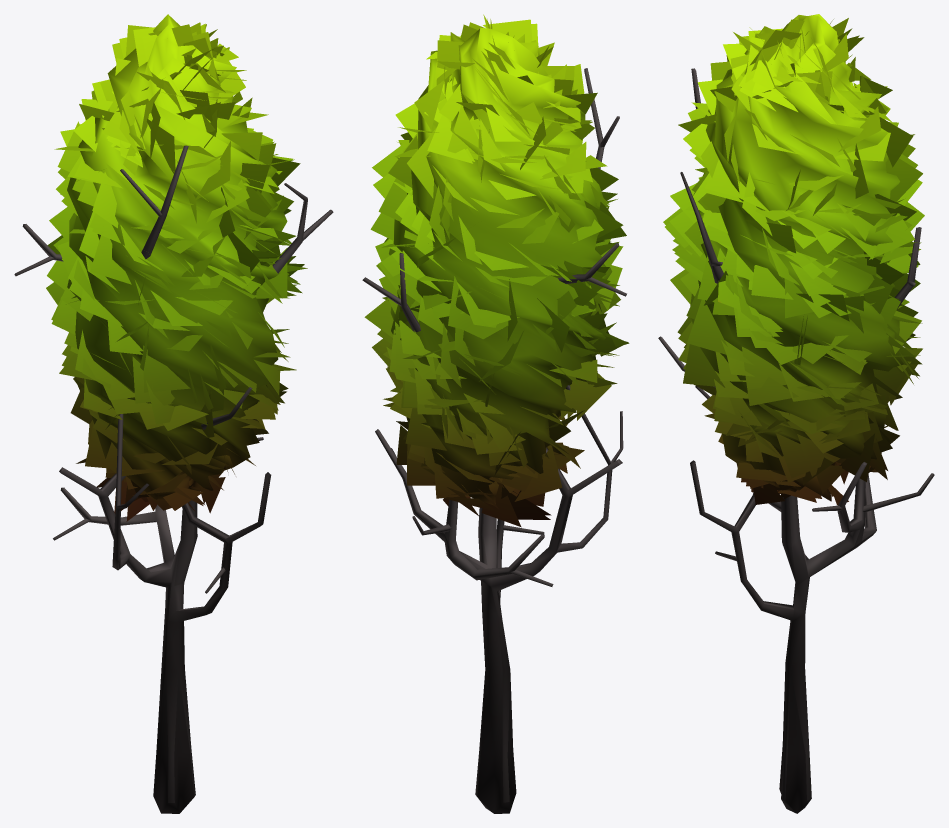
Rendered from Forest_Tree_5C.fbx.
3 renders of one model, left to right at view 1: azimuth 30°, elevation 25°; view 2: azimuth 150°, elevation 25°; view 3: azimuth 270°, elevation 25°, orthographic.
Parts seen in each view (by area): view 1: Forest_Tree_5C; view 2: Forest_Tree_5C; view 3: Forest_Tree_5C.
Part boxes in pixels (left/top/right/bottom): Forest_Tree_5C: left=14, top=14, right=333, bottom=813; Forest_Tree_5C: left=362, top=14, right=629, bottom=813; Forest_Tree_5C: left=658, top=14, right=934, bottom=813.
Bounding box in the file's own units: 313 × 887 × 279.
